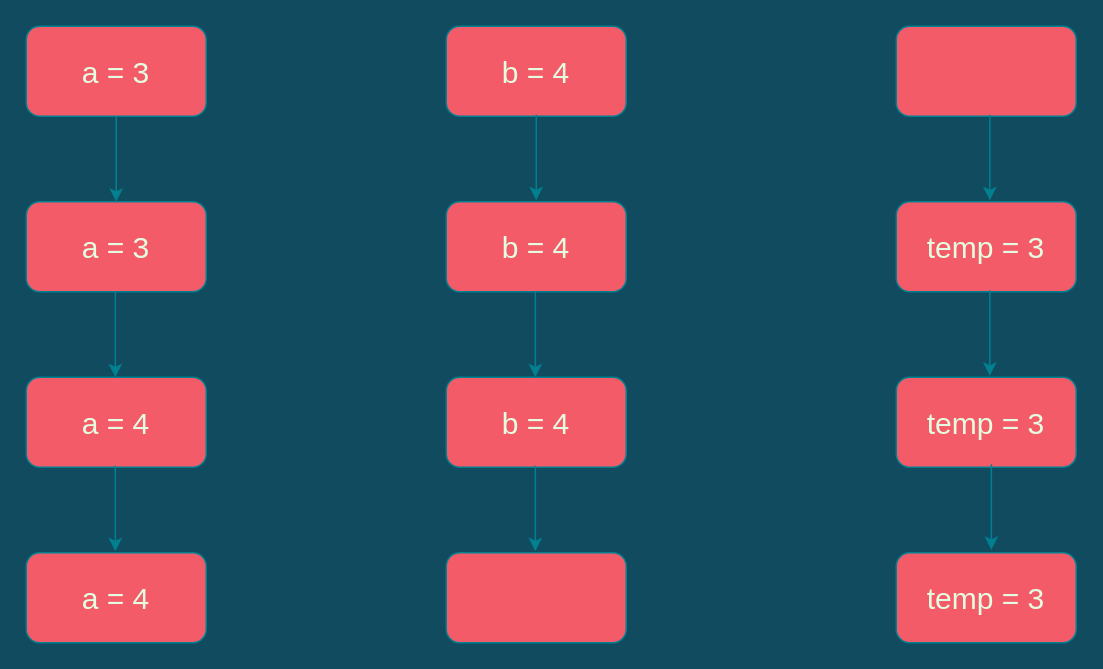
This 1103x669 diagram has some shape labels left out. Here are the shapes that lost their labels. From the top down, the box of each, then its label:
(895, 25, 1076, 116): temp
(445, 551, 626, 643): b = 3
